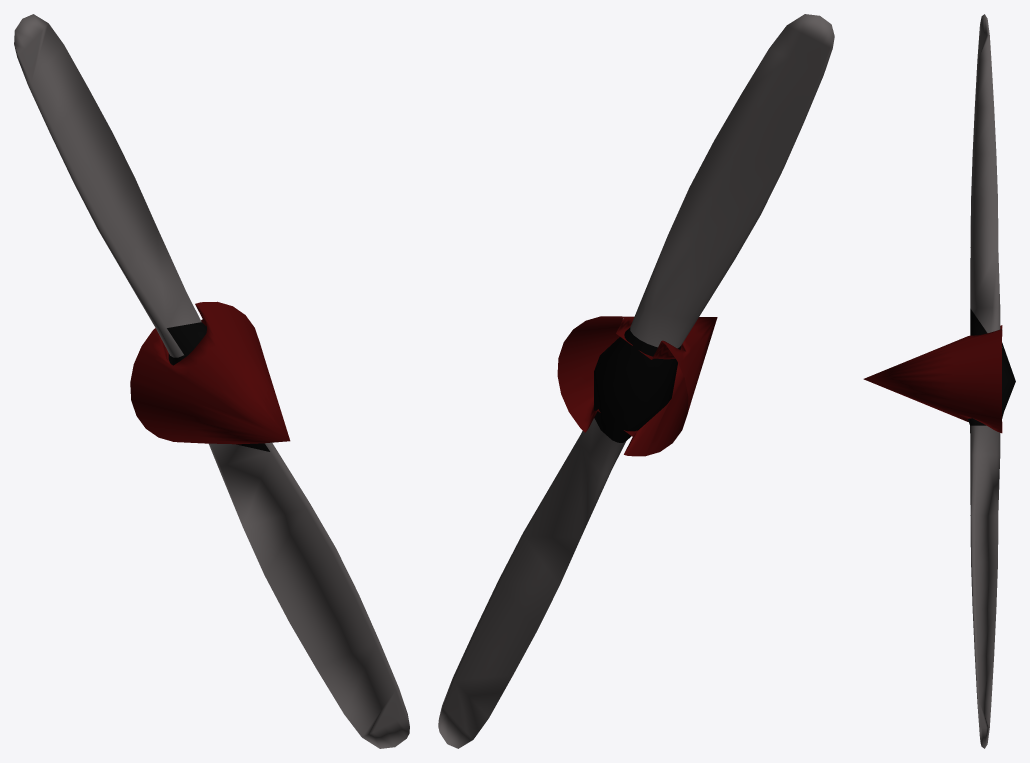
File: helix.fbx
The picture shows the model from 3 angles, left to right: view 1: azimuth 30°, elevation 25°; view 2: azimuth 150°, elevation 25°; view 3: azimuth 270°, elevation 25°; orthographic projection. The views are drawn at different scales.
Parts seen in each view (by area): view 1: helix; view 2: helix; view 3: helix.
Part boxes in pixels (x1,y1,x2,y2): helix: [14, 14, 409, 748]; helix: [438, 14, 834, 748]; helix: [863, 14, 1015, 748].
Bounding box in the file's own units: 33.58 × 66.39 × 15.29.
